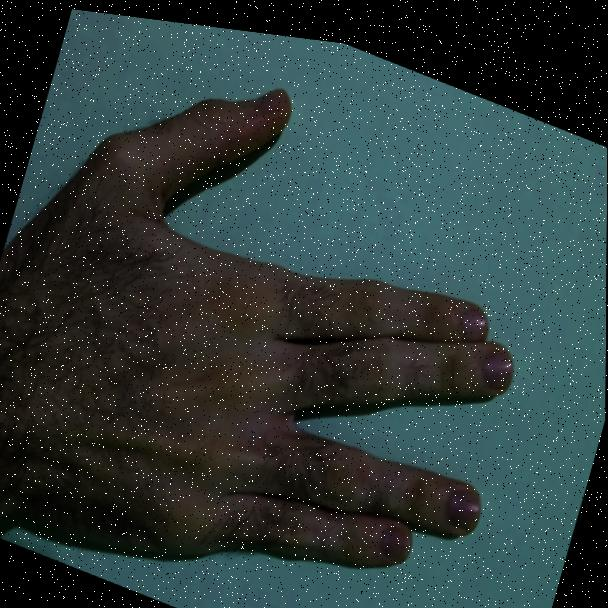five: (0, 13, 585, 608)
